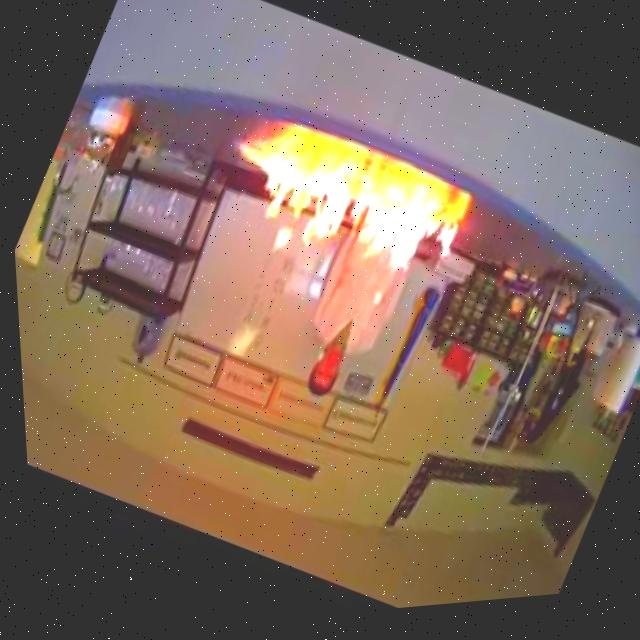Fire: (195, 115, 475, 336)
